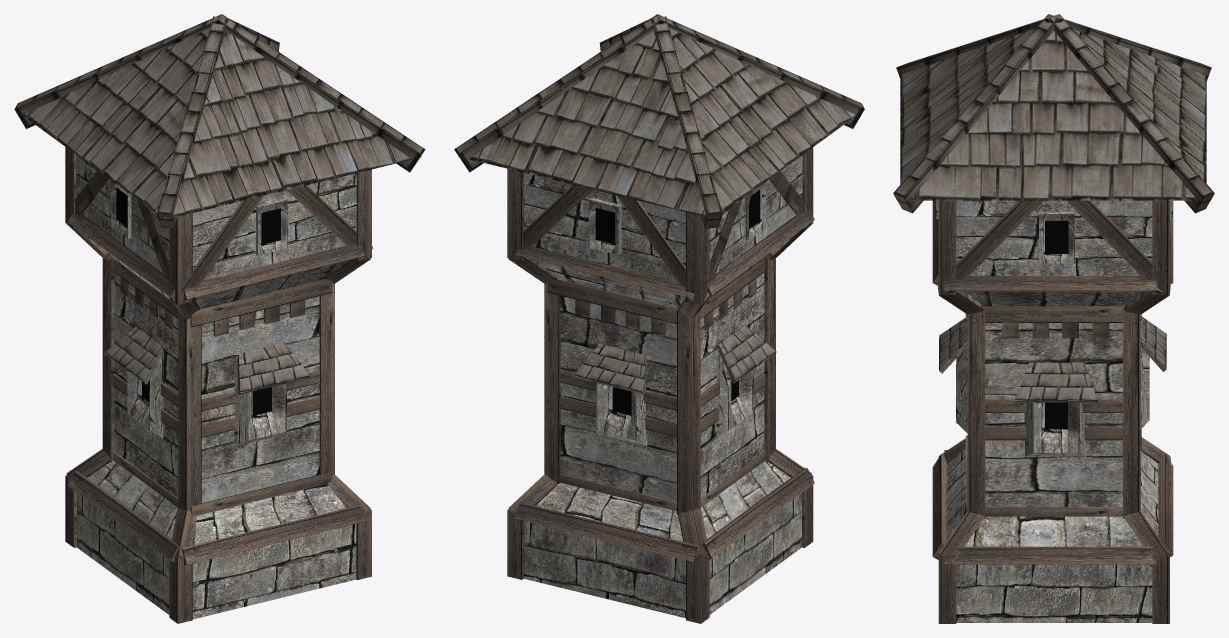
File: humantower.fbx
3 renders of one model, left to right at view 1: azimuth 30°, elevation 25°; view 2: azimuth 150°, elevation 25°; view 3: azimuth 270°, elevation 25°, orthographic. The views are drawn at different scales.
Visible parts, largest first — view 1: Kostka.006; view 2: Kostka.006; view 3: Kostka.006.
Boxes of the visible parts, left/top/right/bottom form: Kostka.006: left=14, top=14, right=425, bottom=623; Kostka.006: left=454, top=14, right=864, bottom=623; Kostka.006: left=893, top=14, right=1214, bottom=623.
Size of the model in its own units: 2282 by 4425 by 2306.
5 materials, 4 textured.
